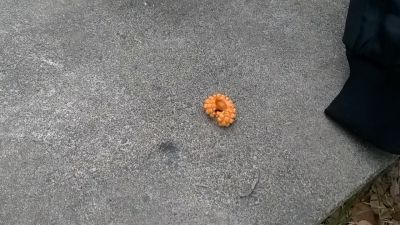eggs: (201, 90, 239, 128)
